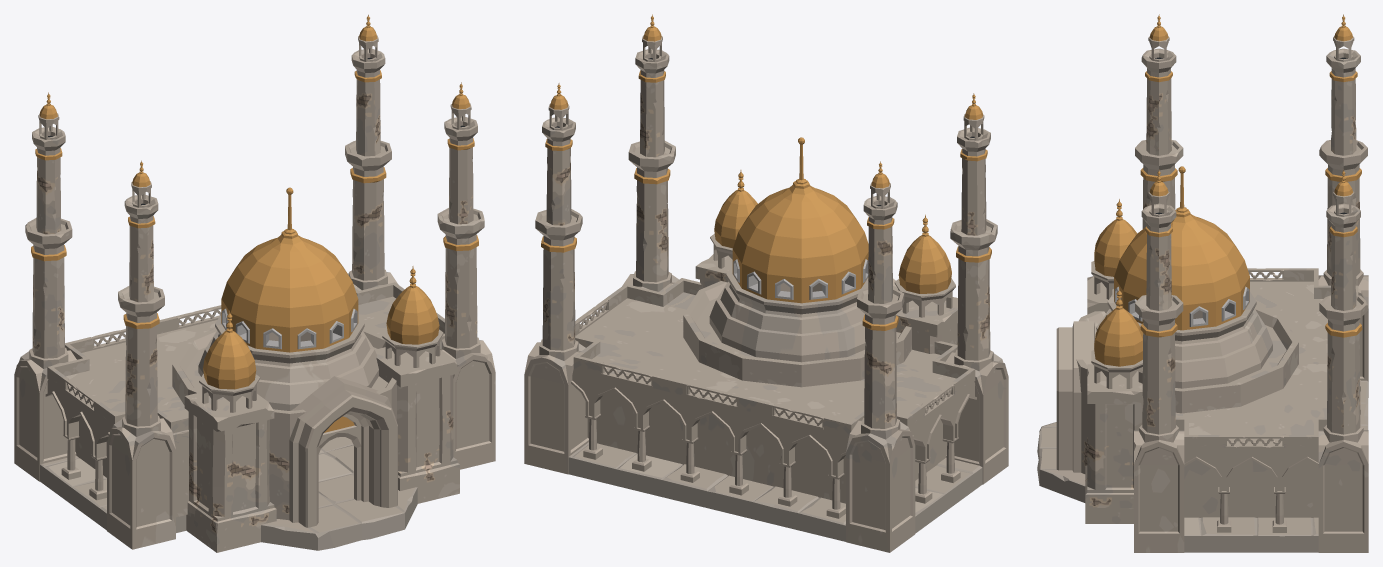
The model's file is SM_Bld_Hall_02.fbx.
3 views of the same model, side by side, from view 1: azimuth 30°, elevation 25°; view 2: azimuth 150°, elevation 25°; view 3: azimuth 270°, elevation 25° (orthographic).
Parts seen in each view (by area): view 1: SM_Bld_Hall_02; view 2: SM_Bld_Hall_02; view 3: SM_Bld_Hall_02.
Boxes of the visible parts, <box> form: SM_Bld_Hall_02: <box>14,14,495,552</box>; SM_Bld_Hall_02: <box>524,14,1008,552</box>; SM_Bld_Hall_02: <box>1037,14,1368,552</box>.
Size of the model in its own units: 2247 by 2218 by 1786.
